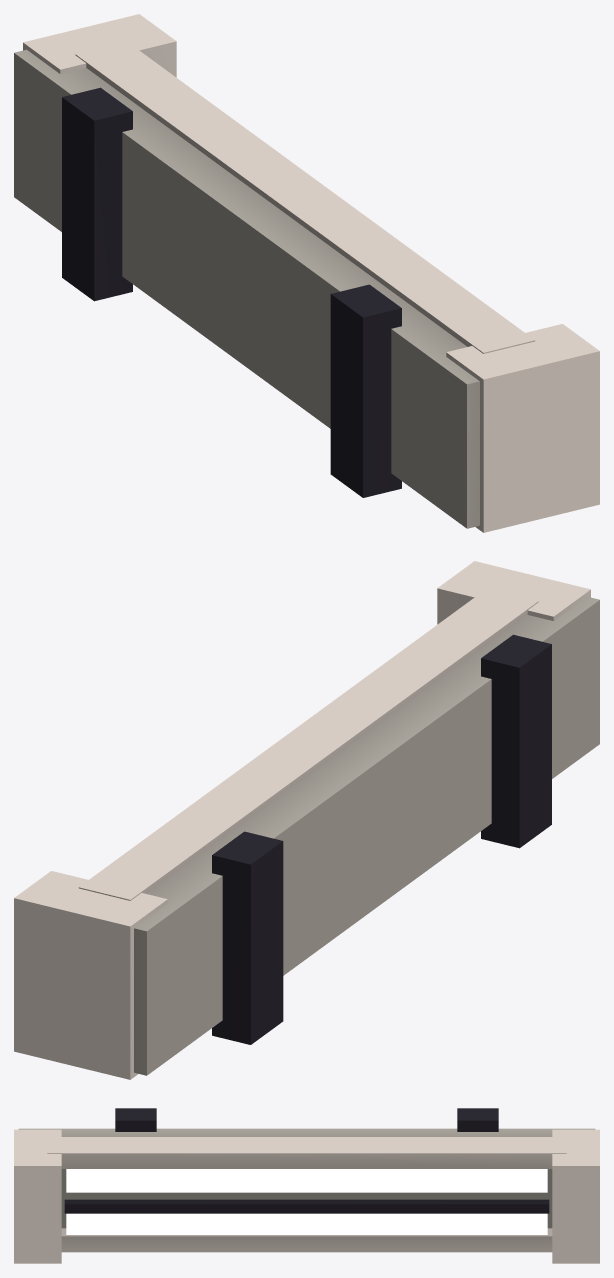
3 views of the same model, one above another, from view 1: azimuth 30°, elevation 25°; view 2: azimuth 150°, elevation 25°; view 3: azimuth 270°, elevation 25° (orthographic). The views are drawn at different scales.
Visible parts, largest first — view 1: body_pal_silver, body_pal_picketWhite, body_pal_uiDark; view 2: body_pal_silver, body_pal_picketWhite, body_pal_uiDark; view 3: body_pal_picketWhite, body_emi_picketWhite, body_pal_uiDark, body_pal_silver.
Boxes of the visible parts, left/top/right/bottom form: body_pal_silver: left=14, top=49, right=479, bottom=528; body_pal_picketWhite: left=23, top=14, right=599, bottom=532; body_pal_uiDark: left=62, top=87, right=401, bottom=497; body_pal_silver: left=134, top=596, right=599, bottom=1075; body_pal_picketWhite: left=14, top=561, right=590, bottom=1079; body_pal_uiDark: left=212, top=634, right=551, bottom=1044; body_pal_picketWhite: left=14, top=1129, right=599, bottom=1263; body_emi_picketWhite: left=66, top=1169, right=547, bottom=1234; body_pal_uiDark: left=64, top=1108, right=549, bottom=1213; body_pal_silver: left=18, top=1128, right=595, bottom=1228.
Bounding box in the file's own units: 0.3645 × 0.4 × 1.85.
